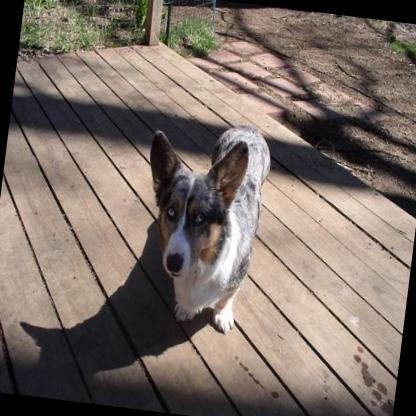Cardigan: (127, 112, 273, 334)
